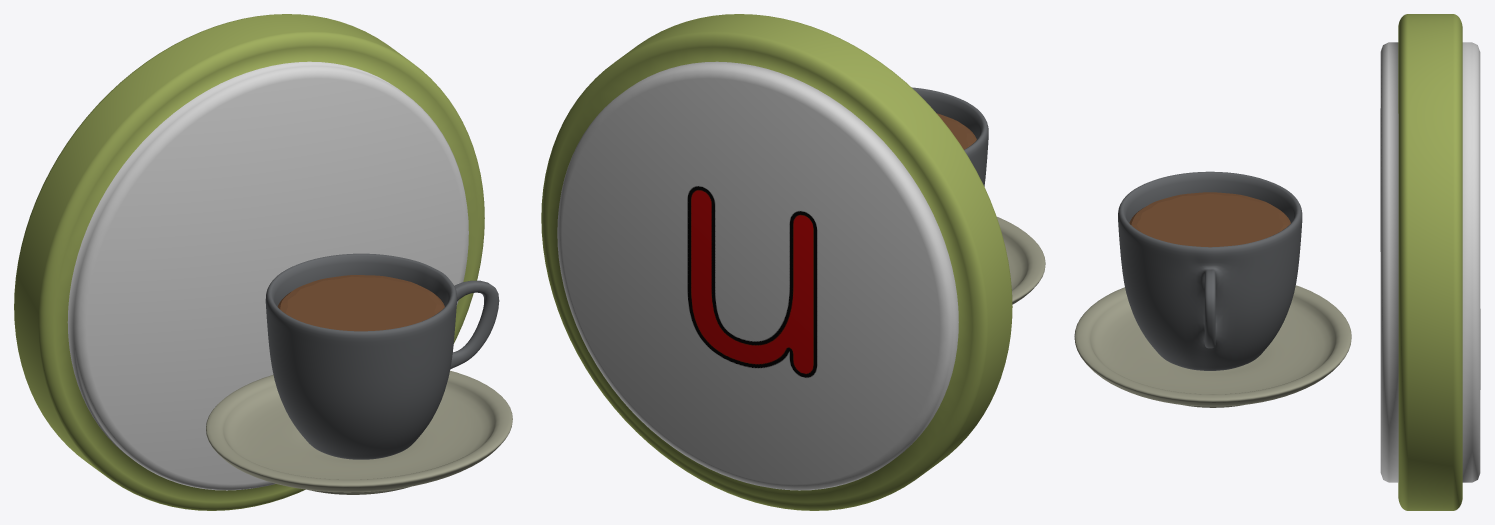
The model's file is cup2.gltf.
3 views of the same model, side by side, from view 1: azimuth 30°, elevation 25°; view 2: azimuth 150°, elevation 25°; view 3: azimuth 270°, elevation 25° (orthographic). The views are drawn at different scales.
Visible parts, largest first — view 1: coin, Cylinder, Cylinder.007; view 2: coin, Cylinder, Cylinder.007; view 3: coin, Cylinder, Cylinder.007.
Part boxes in pixels (left/top/right/bottom): coin: left=14, top=14, right=484, bottom=510; Cylinder: left=265, top=253, right=499, bottom=459; Cylinder.007: left=206, top=370, right=512, bottom=494; coin: left=541, top=14, right=1012, bottom=510; Cylinder: left=912, top=87, right=988, bottom=186; Cylinder.007: left=997, top=217, right=1045, bottom=304; coin: left=1380, top=14, right=1480, bottom=510; Cylinder: left=1118, top=171, right=1302, bottom=370; Cylinder.007: left=1074, top=285, right=1351, bottom=407.
Bounding box in the file's own units: 2.56 × 2.56 × 2.09.
6 materials, 1 textured.
